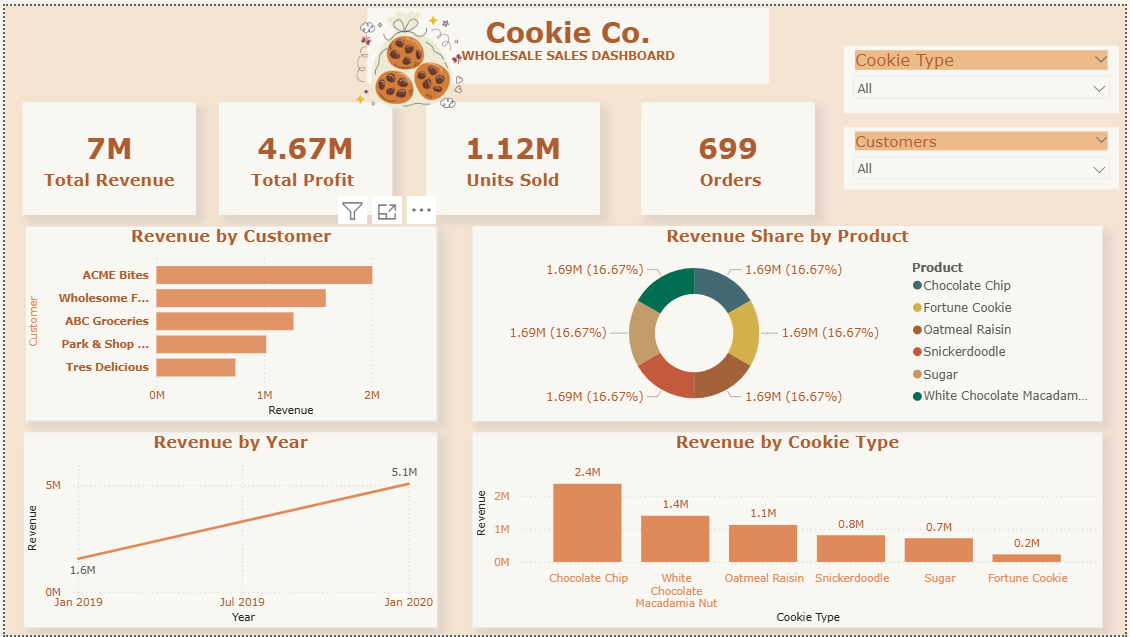

What the dashboard file says about the page in this screenshot:
{"tool":"powerbi","page":{"name":"Page 1","canvas":[1280,720],"ordinal":0},"visuals":[{"type":"card","fields":{"Values":["Orders.Total Sales Amount"]},"box":[20,110,198.6,128.6],"z":0},{"type":"card","fields":{"Values":["Orders.Total Profit Amount"]},"box":[244.3,110,198.6,128.6],"z":2},{"type":"card","fields":{"Values":["CountNonNull(Orders.Order ID)"]},"box":[727.1,110,198.6,128.6],"z":3},{"type":"card","fields":{"Values":["Sum(Orders.Units Sold)"]},"box":[481.4,110,198.6,128.6],"z":4},{"type":"lineChart","fields":{"Category":["Orders.Date.Variation.Date Hierarchy.Year"],"Y":["Sum(Orders.Total Sales)"]},"box":[21.4,487.1,472.9,222.9],"z":5},{"type":"columnChart","fields":{"Category":["Cookie Types.Cookie Type"],"Y":["Sum(Orders.Total Sales)"]},"box":[534.3,487.1,720,222.9],"z":6},{"type":"barChart","fields":{"Category":["Customers.Name"],"Y":["Sum(Orders.Total Sales)"]},"box":[22.9,251.4,471.4,222.9],"z":7},{"type":"textbox","box":[414.3,2.9,458.6,85.7],"z":8},{"type":"image","box":[218.6,0,487.1,122.9],"z":9},{"type":"slicer","fields":{"Values":["Cookie Types.Cookie Type"]},"box":[958.6,45.7,314.3,77.1],"z":10},{"type":"slicer","fields":{"Values":["Customers.Name"]},"box":[958.6,138.6,314.3,71.4],"z":11},{"type":"donutChart","fields":{"Category":["Cookie Types.Cookie Type"],"Y":["Sum(Chocolate Chip Sales.Total Revenue)"]},"box":[534.3,251.4,720,222.9],"z":12}]}

Visuals, with their boxes in screenshot pixels (x1, y1, x2, y2), scaled from the page's 1280x720 canvas onto the 1130x637 screenshot:
card - Orders.Total Sales Amount: bbox=[18, 97, 193, 211]
card - Orders.Total Profit Amount: bbox=[216, 97, 391, 211]
card - CountNonNull(Orders.Order ID): bbox=[642, 97, 817, 211]
card - Sum(Orders.Units Sold): bbox=[425, 97, 600, 211]
lineChart - Orders.Date.Variation.Date Hierarchy.Year x Sum(Orders.Total Sales): bbox=[19, 431, 436, 628]
columnChart - Cookie Types.Cookie Type x Sum(Orders.Total Sales): bbox=[472, 431, 1107, 628]
barChart - Customers.Name x Sum(Orders.Total Sales): bbox=[20, 222, 436, 420]
textbox: bbox=[366, 3, 771, 78]
image: bbox=[193, 0, 623, 109]
slicer - Cookie Types.Cookie Type: bbox=[846, 40, 1124, 109]
slicer - Customers.Name: bbox=[846, 123, 1124, 186]
donutChart - Cookie Types.Cookie Type x Sum(Chocolate Chip Sales.Total Revenue): bbox=[472, 222, 1107, 420]
